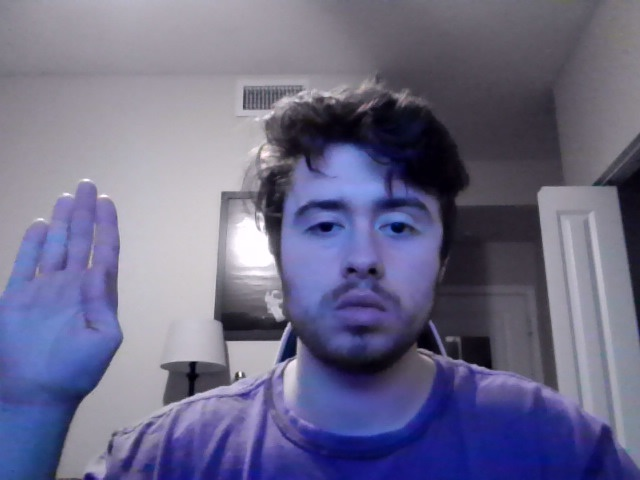b: (1, 179, 125, 408)
